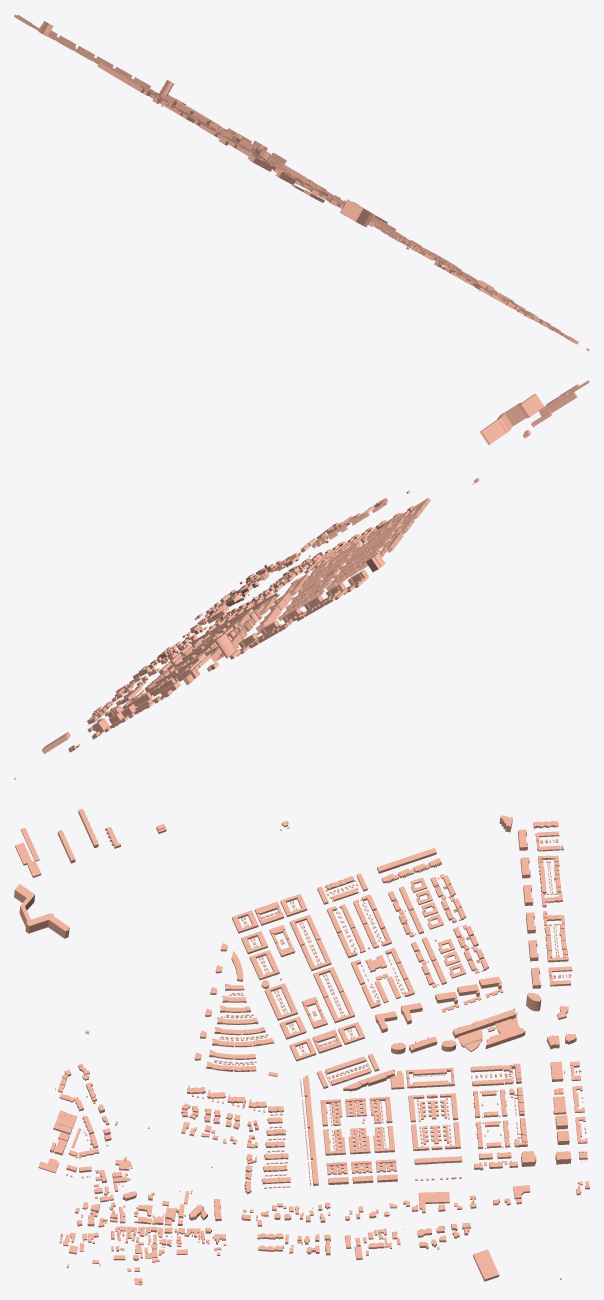
3 views of the same model, one above another, from view 1: azimuth 30°, elevation 25°; view 2: azimuth 150°, elevation 25°; view 3: azimuth 270°, elevation 25° (orthographic). The views are drawn at different scales.
Size of the model in its own units: 972 by 755 by 1284.
